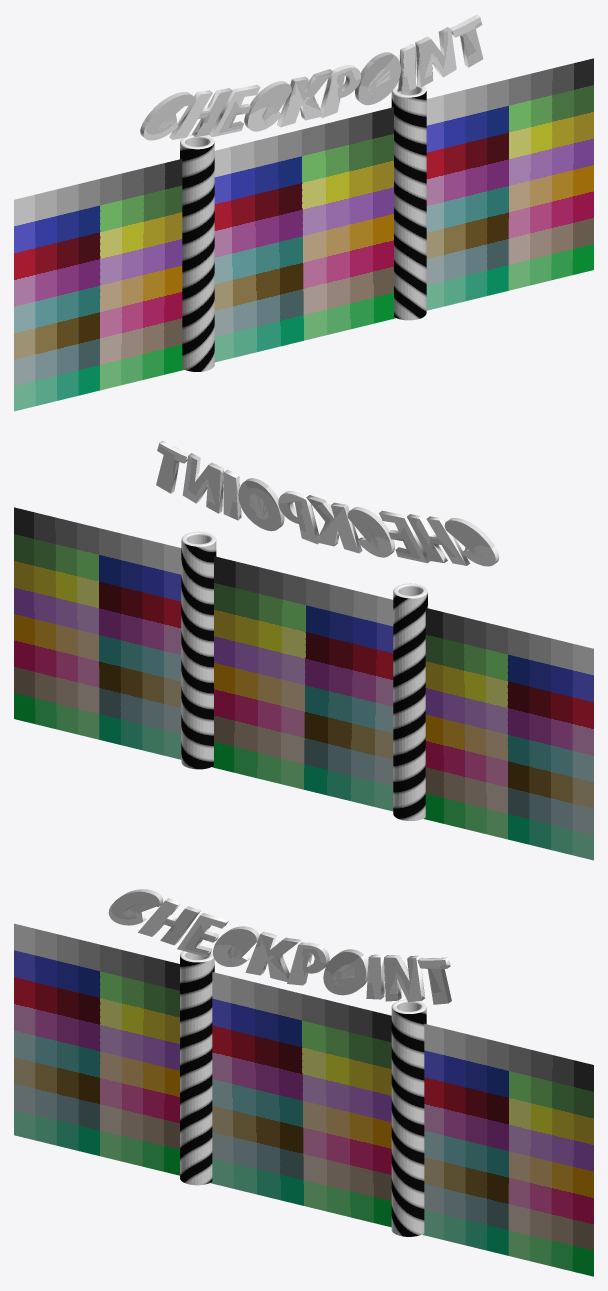
Rendered from checkpoint_V4.fbx.
3 views of the same model, one above another, from view 1: azimuth 30°, elevation 25°; view 2: azimuth 150°, elevation 25°; view 3: azimuth 330°, elevation 25° (orthographic).
Visible parts, largest first — view 1: CP_portal, ConsumePortal.L, consumePortal.R, CheckpointText.001, Cylinder.001, Cylinder; view 2: CP_portal, ConsumePortal.L, consumePortal.R, CheckpointText.001, Cylinder, Cylinder.001; view 3: CP_portal, consumePortal.R, ConsumePortal.L, CheckpointText.001, Cylinder, Cylinder.001.
Part boxes in pixels (left/top/right/bottom): CP_portal: left=214, top=107, right=395, bottom=362; ConsumePortal.L: left=14, top=159, right=184, bottom=411; consumePortal.R: left=426, top=58, right=593, bottom=310; CheckpointText.001: left=140, top=14, right=483, bottom=140; Cylinder.001: left=180, top=135, right=214, bottom=371; Cylinder: left=391, top=83, right=426, bottom=320; CP_portal: left=212, top=556, right=393, bottom=811; ConsumePortal.L: left=423, top=608, right=593, bottom=860; consumePortal.R: left=14, top=507, right=181, bottom=759; CheckpointText.001: left=156, top=440, right=499, bottom=566; Cylinder: left=181, top=531, right=216, bottom=769; Cylinder.001: left=393, top=583, right=427, bottom=820; CP_portal: left=211, top=972, right=391, bottom=1227; consumePortal.R: left=422, top=1023, right=593, bottom=1276; ConsumePortal.L: left=14, top=923, right=179, bottom=1175; CheckpointText.001: left=108, top=889, right=451, bottom=1004; Cylinder: left=391, top=999, right=426, bottom=1236; Cylinder.001: left=180, top=951, right=214, bottom=1185.
Size of the model in its own units: 38.34 by 18.81 by 3.
